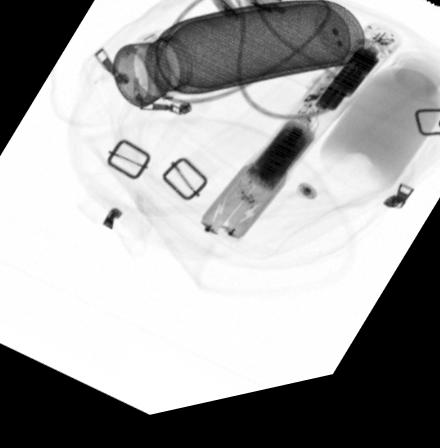Baton: (196, 35, 405, 257)
